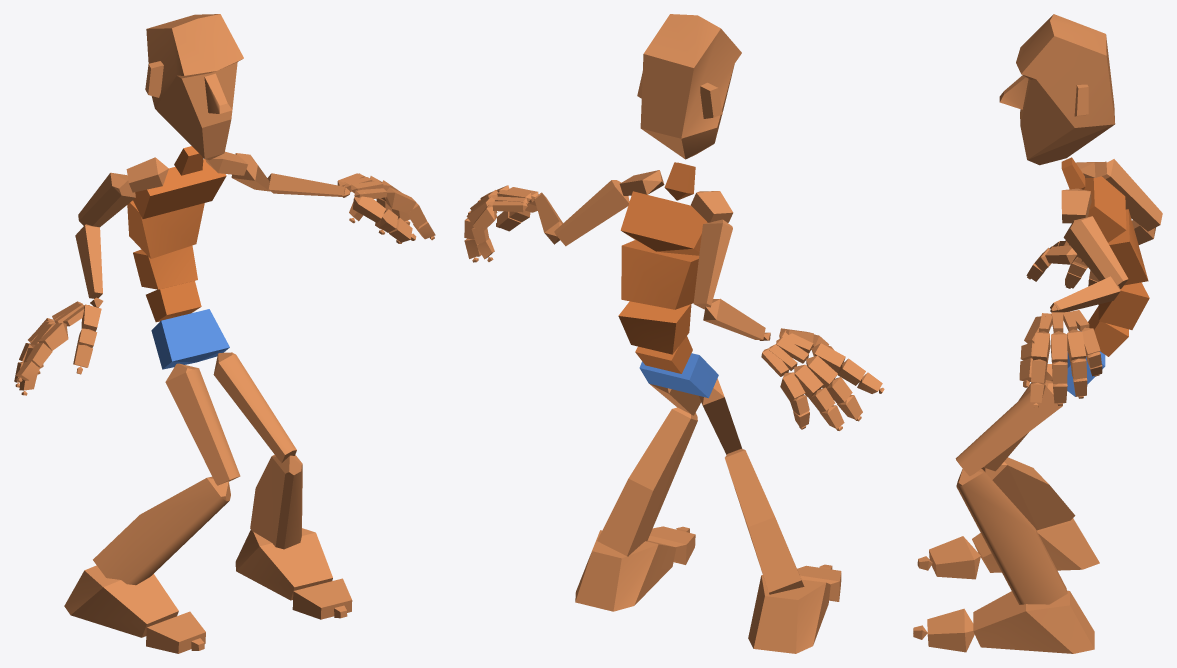
The model's file is prueba279.obj.
3 views of the same model, side by side, from view 1: azimuth 30°, elevation 25°; view 2: azimuth 150°, elevation 25°; view 3: azimuth 270°, elevation 25° (orthographic). The views are drawn at different scales.
Visible parts, largest first — view 1: BOPED_Head, BOPED_R_leg, BOPED_R_foot, BOPED_R_foot01, BOPED_L_leg, BOPED_R_legup, Bone01, BOPED_L_legup, Bone04, Bone05, Bone03, BOPED_R_arm_upper (+9 smaller); view 2: BOPED_Head, BOPED_L_leg, BOPED_R_foot01, BOPED_R_foot, BOPED_R_leg, Bone04, Bone05, Bone03, BOPED_R_arm_upper, BOPED_L_arm_upper, Bone01, BOPED_R_legup (+9 smaller); view 3: BOPED_Head, BOPED_L_leg, BOPED_R_foot01, BOPED_L_legup, BOPED_R_leg, BOPED_R_foot, BOPED_L_arm_upper, Bone05, BOPED_R_arm_upper, BOPED_R_foot_toe01, BOPED_R_foot_toe04, Bone03 (+12 smaller).
Part boxes in pixels (x1=…): BOPED_Head: x1=145, y1=14, x2=243, y2=160; BOPED_R_leg: x1=93, y1=476, x2=230, y2=585; BOPED_R_foot: x1=64, y1=565, x2=178, y2=637; BOPED_R_foot01: x1=235, y1=528, x2=332, y2=600; BOPED_L_leg: x1=250, y1=454, x2=302, y2=549; BOPED_R_legup: x1=165, y1=363, x2=240, y2=485; Bone01: x1=151, y1=309, x2=229, y2=369; BOPED_L_legup: x1=213, y1=352, x2=296, y2=462; Bone04: x1=127, y1=200, x2=204, y2=258; Bone05: x1=133, y1=159, x2=226, y2=218; Bone03: x1=133, y1=245, x2=197, y2=289; BOPED_R_arm_upper: x1=78, y1=172, x2=135, y2=227; BOPED_Head: x1=637, y1=14, x2=741, y2=159; BOPED_L_leg: x1=597, y1=407, x2=697, y2=556; BOPED_R_foot01: x1=575, y1=530, x2=676, y2=611; BOPED_R_foot: x1=748, y1=575, x2=830, y2=653; BOPED_R_leg: x1=725, y1=448, x2=804, y2=594; Bone04: x1=621, y1=240, x2=699, y2=309; Bone05: x1=620, y1=191, x2=707, y2=255; Bone03: x1=618, y1=301, x2=691, y2=354; BOPED_R_arm_upper: x1=693, y1=219, x2=732, y2=309; BOPED_L_arm_upper: x1=554, y1=180, x2=629, y2=246; Bone01: x1=639, y1=353, x2=718, y2=398; BOPED_R_legup: x1=699, y1=378, x2=742, y2=454; BOPED_Head: x1=999, y1=14, x2=1115, y2=165; BOPED_L_leg: x1=956, y1=469, x2=1067, y2=604; BOPED_R_foot01: x1=973, y1=590, x2=1094, y2=653; BOPED_L_legup: x1=955, y1=380, x2=1062, y2=476; BOPED_R_leg: x1=981, y1=457, x2=1075, y2=530; BOPED_R_foot: x1=972, y1=518, x2=1099, y2=572; BOPED_L_arm_upper: x1=1063, y1=216, x2=1128, y2=288; Bone05: x1=1084, y1=176, x2=1126, y2=242; BOPED_R_arm_upper: x1=1102, y1=159, x2=1162, y2=231; BOPED_R_foot_toe01: x1=929, y1=536, x2=980, y2=579; BOPED_R_foot_toe04: x1=927, y1=608, x2=974, y2=652; Bone03: x1=1098, y1=282, x2=1149, y2=329.
Size of the model in its own units: 130 by 175 by 67.93.
